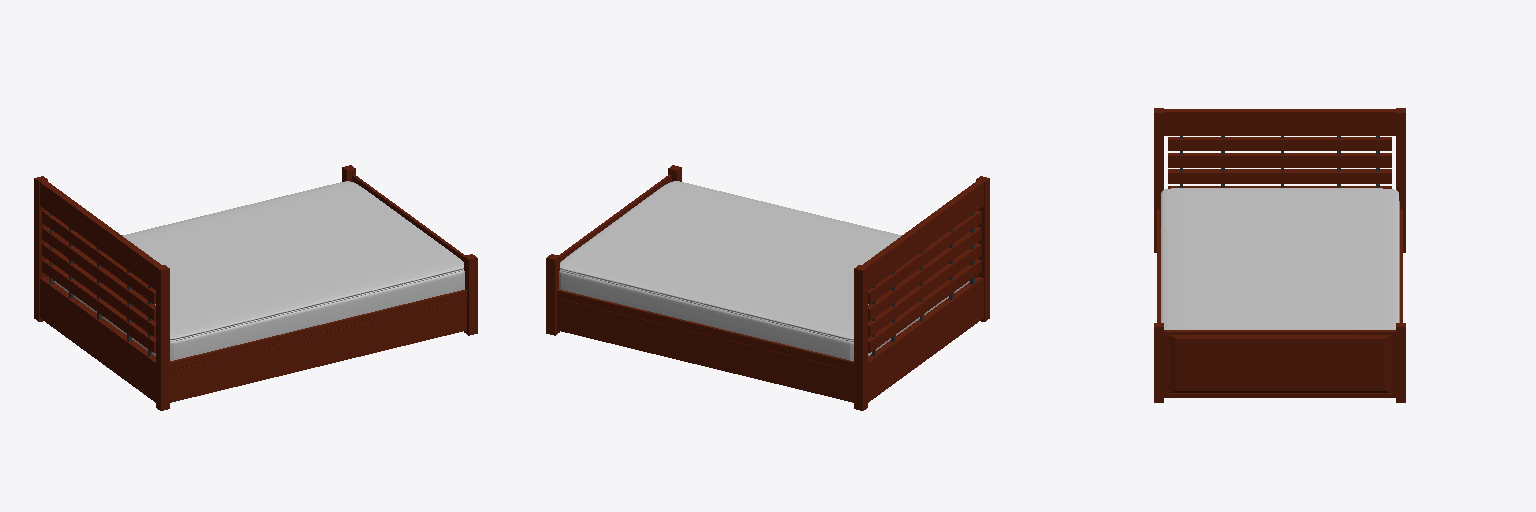
File: Bed_02.obj
3 views of the same model, side by side, from view 1: azimuth 30°, elevation 25°; view 2: azimuth 150°, elevation 25°; view 3: azimuth 270°, elevation 25° (orthographic).
Parts seen in each view (by area): view 1: Cube.001_Cube.021, Midle_Vert_001.002_Cube.014, Midle_Vert_001.001_Cube.013, Midle_Vert_001_Cube.002, Corner_001_Cube, Midle_Vert_002_Cube.004, Midle_Vert_003_Cube.005, Midle_Vert_004_Cube.006, Midle_Vert_000_Cube.003, Corner_002_Cube.001, Corner_001.001_Cube.018, Midle_Vert_001.004_Cube.016; view 2: Cube.001_Cube.021, Midle_Vert_001.003_Cube.020, Midle_Vert_001.001_Cube.013, Midle_Vert_001_Cube.002, Corner_002_Cube.001, Midle_Vert_002_Cube.004, Midle_Vert_003_Cube.005, Midle_Vert_004_Cube.006, Midle_Vert_000_Cube.003, Corner_001_Cube, Corner_002.001_Cube.017, Midle_Vert_001.004_Cube.016; view 3: Cube.001_Cube.021, Midle_Vert_001.004_Cube.016, Midle_Vert_001_Cube.002, Midle_Vert_002_Cube.004, Midle_Vert_003_Cube.005, Midle_Vert_000_Cube.003, Corner_001_Cube, Corner_002_Cube.001, Corner_001.001_Cube.018, Corner_002.001_Cube.017.
Part boxes in pixels (bbox=[...]): Cube.001_Cube.021: bbox=[54, 181, 464, 360]; Midle_Vert_001.002_Cube.014: bbox=[170, 289, 466, 402]; Midle_Vert_001.001_Cube.013: bbox=[40, 277, 155, 402]; Midle_Vert_001_Cube.002: bbox=[40, 180, 161, 289]; Corner_001_Cube: bbox=[156, 265, 169, 410]; Midle_Vert_002_Cube.004: bbox=[42, 227, 155, 320]; Midle_Vert_003_Cube.005: bbox=[42, 243, 155, 336]; Midle_Vert_004_Cube.006: bbox=[42, 259, 155, 352]; Midle_Vert_000_Cube.003: bbox=[42, 211, 155, 303]; Corner_002_Cube.001: bbox=[34, 176, 47, 321]; Corner_001.001_Cube.018: bbox=[464, 254, 477, 335]; Midle_Vert_001.004_Cube.016: bbox=[352, 174, 465, 261]; Cube.001_Cube.021: bbox=[559, 181, 969, 360]; Midle_Vert_001.003_Cube.020: bbox=[557, 289, 853, 402]; Midle_Vert_001.001_Cube.013: bbox=[868, 277, 983, 402]; Midle_Vert_001_Cube.002: bbox=[862, 180, 983, 289]; Corner_002_Cube.001: bbox=[854, 265, 867, 410]; Midle_Vert_002_Cube.004: bbox=[868, 227, 981, 320]; Midle_Vert_003_Cube.005: bbox=[868, 243, 981, 336]; Midle_Vert_004_Cube.006: bbox=[868, 259, 981, 352]; Midle_Vert_000_Cube.003: bbox=[868, 211, 981, 304]; Corner_001_Cube: bbox=[976, 176, 989, 321]; Corner_002.001_Cube.017: bbox=[546, 254, 559, 335]; Midle_Vert_001.004_Cube.016: bbox=[558, 174, 671, 261]; Cube.001_Cube.021: bbox=[1161, 188, 1399, 329]; Midle_Vert_001.004_Cube.016: bbox=[1164, 330, 1395, 397]; Midle_Vert_001_Cube.002: bbox=[1164, 109, 1395, 135]; Midle_Vert_002_Cube.004: bbox=[1168, 153, 1391, 167]; Midle_Vert_003_Cube.005: bbox=[1168, 169, 1391, 183]; Midle_Vert_000_Cube.003: bbox=[1168, 137, 1391, 150]; Corner_001_Cube: bbox=[1154, 108, 1163, 252]; Corner_002_Cube.001: bbox=[1396, 108, 1405, 252]; Corner_001.001_Cube.018: bbox=[1154, 323, 1163, 402]; Corner_002.001_Cube.017: bbox=[1396, 323, 1405, 402].
Bounding box in the file's own units: 7.92 × 3.36 × 5.48.